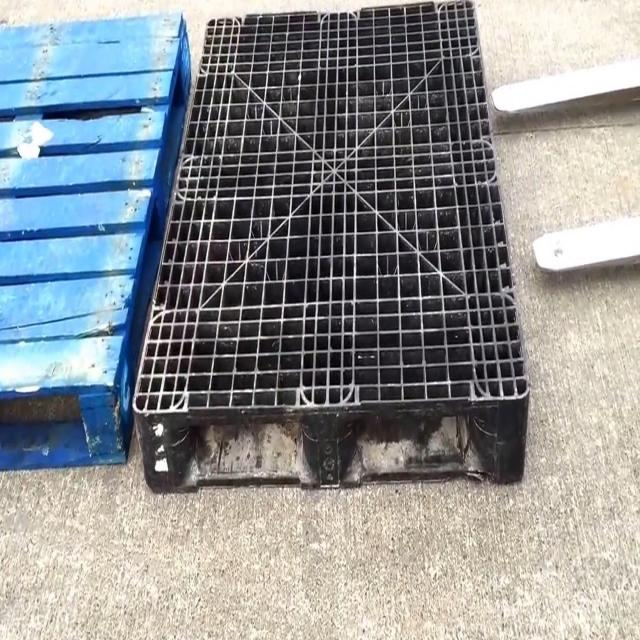Palette: (130, 0, 530, 494), (0, 22, 192, 480)
